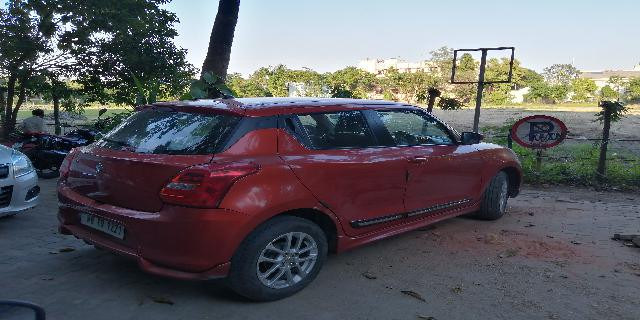Car: (56, 92, 525, 297), (1, 137, 48, 219)
